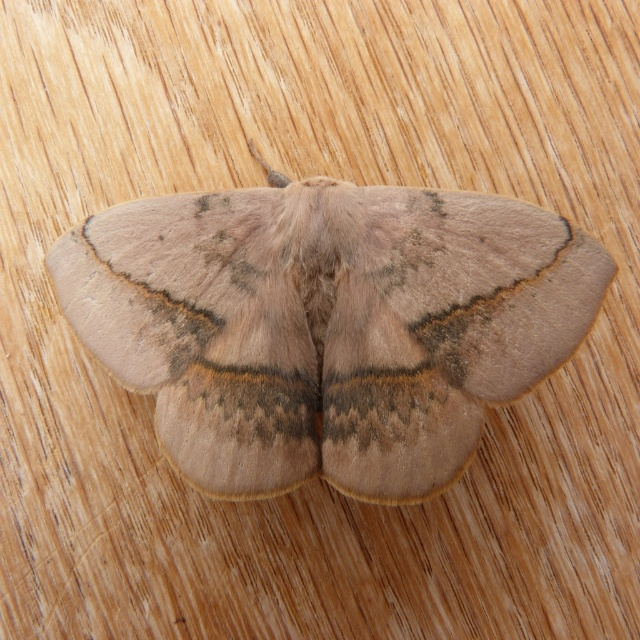Moths and butterflies: (43, 135, 621, 506)
